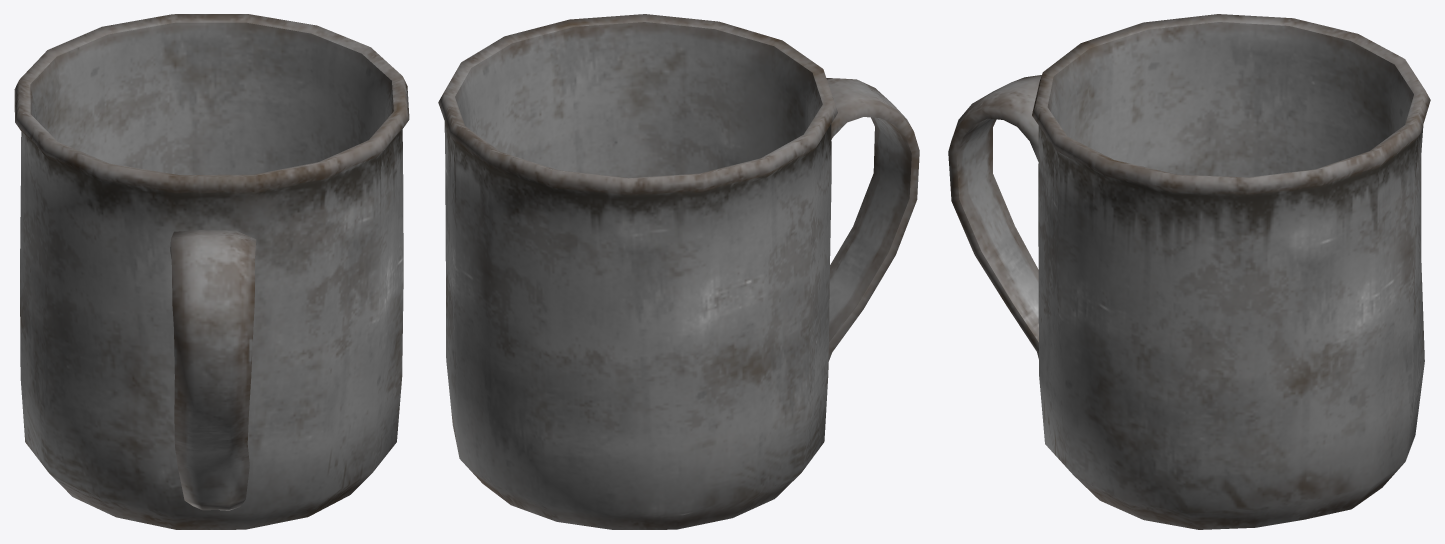
The model's file is CAMP_mugMetal.fbx.
The picture shows the model from 3 angles, left to right: view 1: azimuth 30°, elevation 25°; view 2: azimuth 150°, elevation 25°; view 3: azimuth 270°, elevation 25°; orthographic projection.
Visible parts, largest first — view 1: CAMP_mugMetal; view 2: CAMP_mugMetal; view 3: CAMP_mugMetal.
Part boxes in pixels (x1=…): CAMP_mugMetal: x1=14, y1=14, x2=409, y2=529; CAMP_mugMetal: x1=438, y1=14, x2=919, y2=529; CAMP_mugMetal: x1=948, y1=14, x2=1430, y2=529.
Size of the model in its own units: 9.85 by 10.17 by 11.91.
